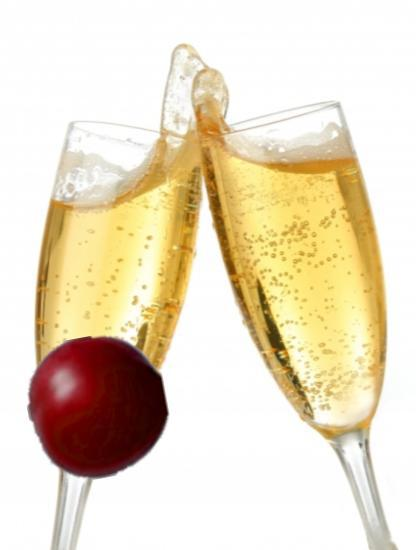Cherry: (28, 336, 170, 478)
